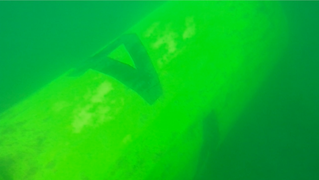4: (66, 32, 165, 106), (193, 109, 220, 180)
pipe: (1, 1, 289, 180)
